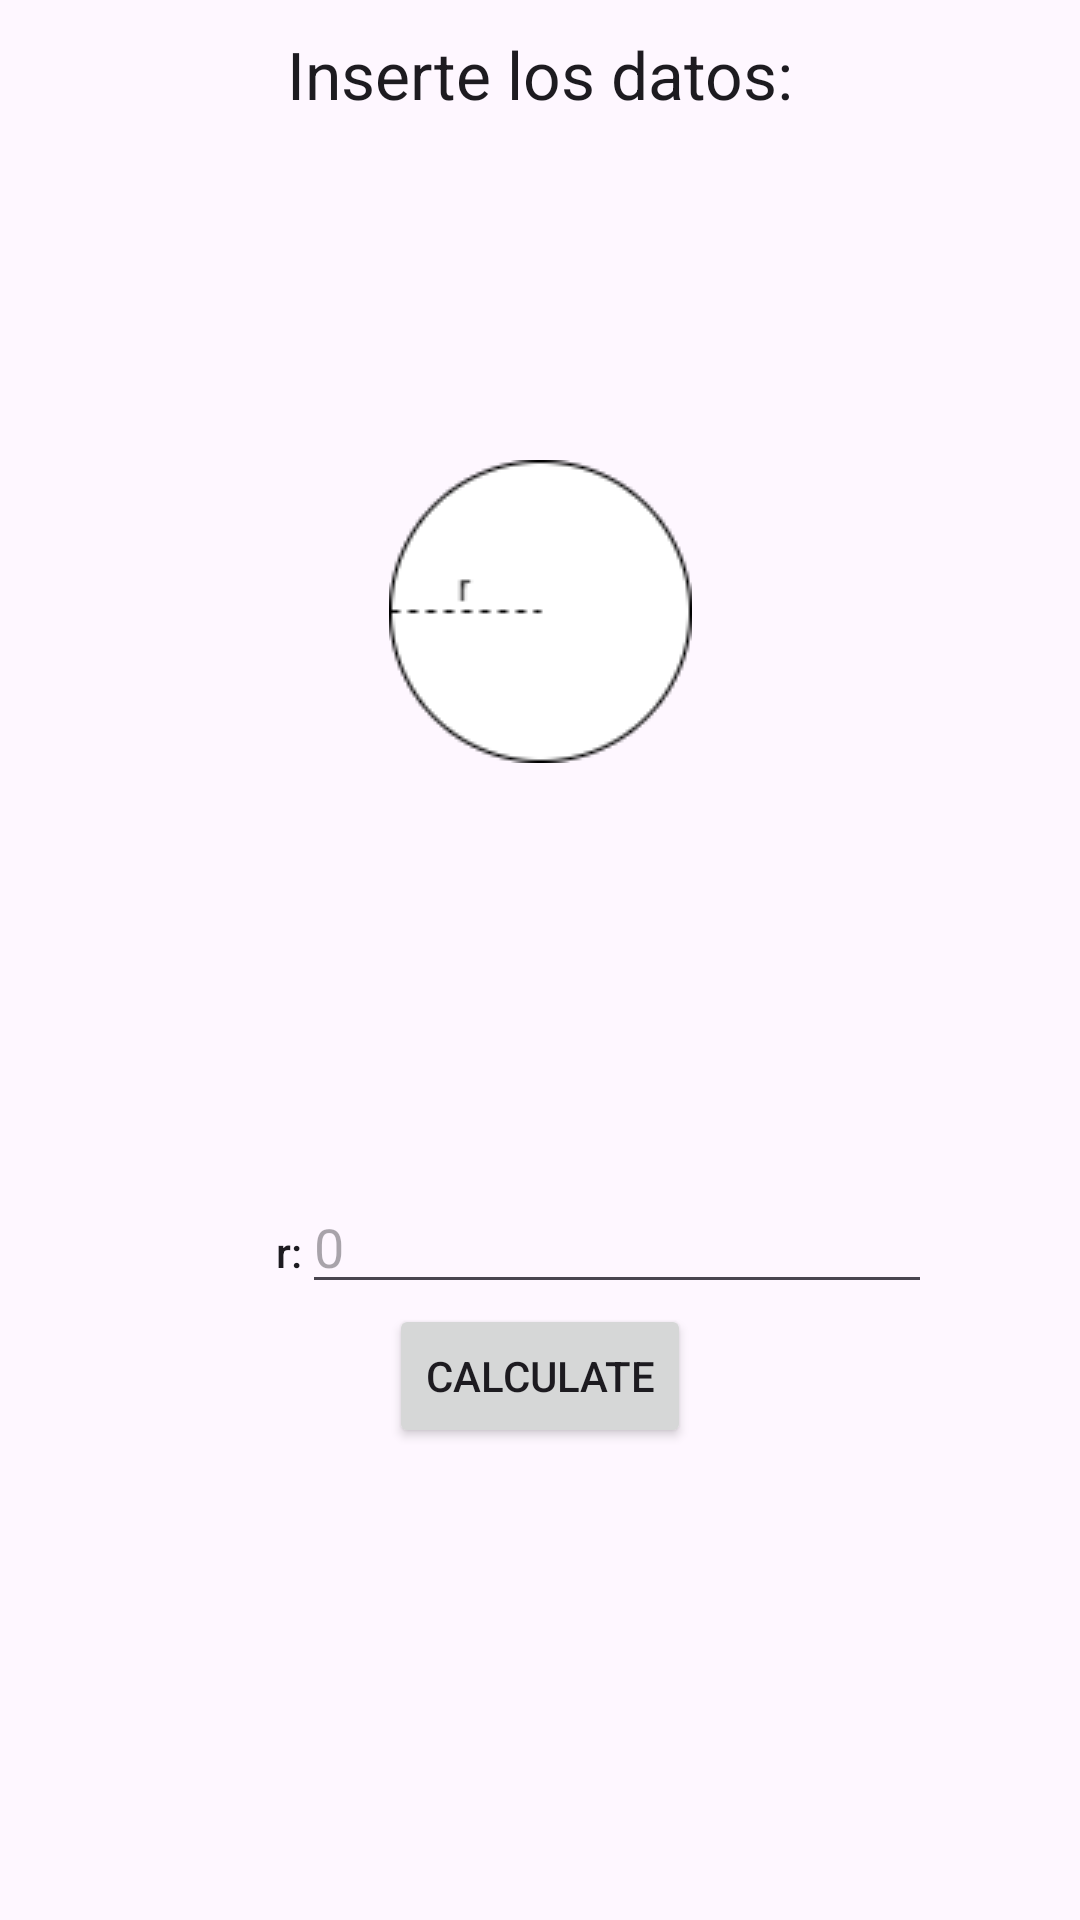

Named icons in this screenshot (1080 x 1920) and their bounding boxes, {"x1": x1, "y1": y1, "x2": x2, "y2": y2}:
circle area: {"x1": 389, "y1": 460, "x2": 692, "y2": 763}
